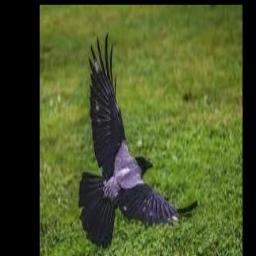Crow: (79, 32, 197, 250)
